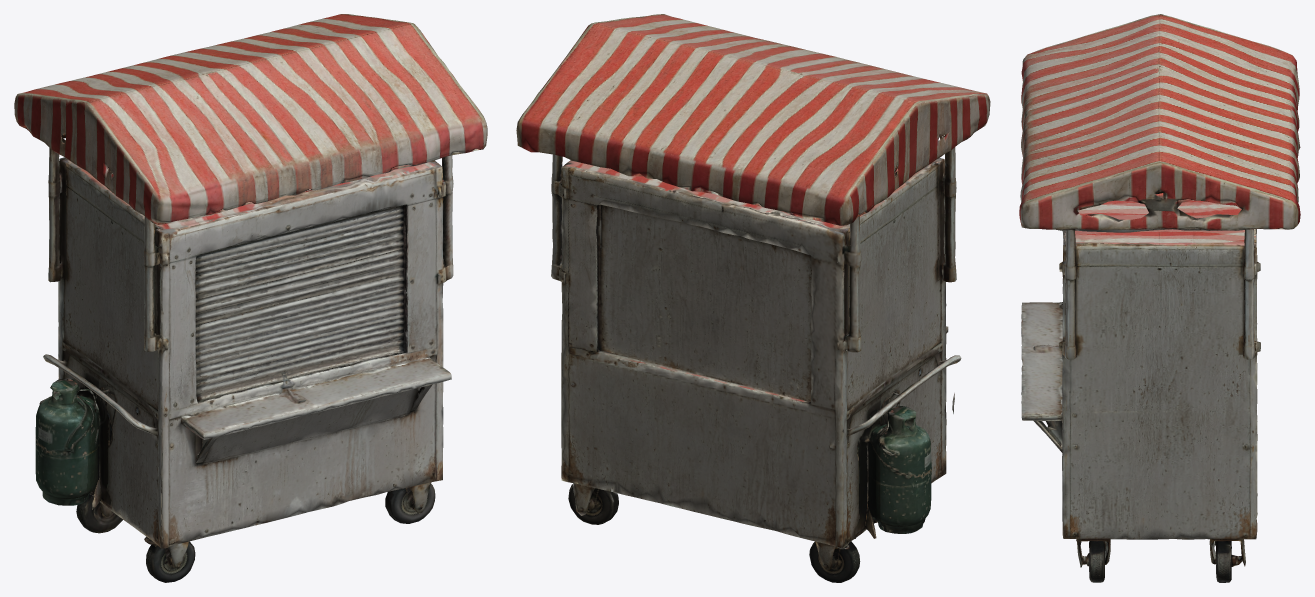
The model's file is FoodCart.glb.
3 renders of one model, left to right at view 1: azimuth 30°, elevation 25°; view 2: azimuth 150°, elevation 25°; view 3: azimuth 270°, elevation 25°, orthographic. The views are drawn at different scales.
Visible parts, largest first — view 1: texture_mapping; view 2: texture_mapping; view 3: texture_mapping.
Boxes of the visible parts, box(x1,y1,x2,y2) form: texture_mapping: box(14, 14, 487, 582); texture_mapping: box(516, 14, 990, 582); texture_mapping: box(1019, 14, 1300, 582).
Size of the model in its own units: 0.8069 by 1 by 0.5868.
Materials: 1 (1 with a texture image).
